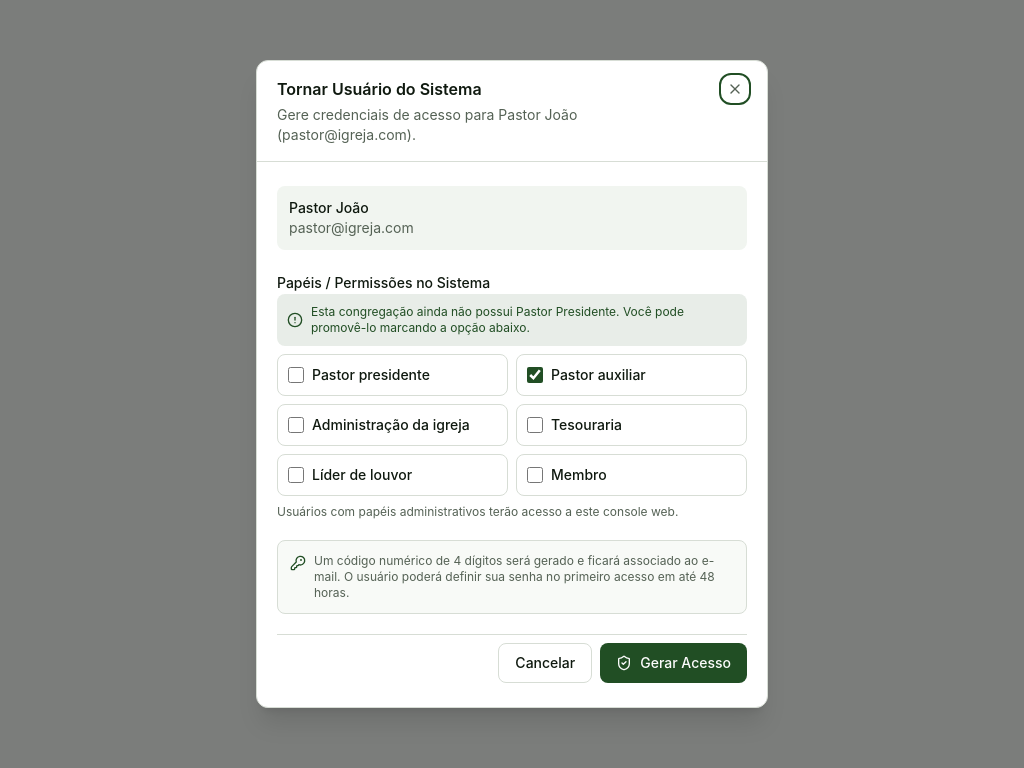
Test: InviteUserDialog › permite selecionar Pastor Presidente quando for pastor e a igreja nao tiver presidente
Expected: the text "Esta congregação ainda não possui Pastor Presidente" is shown, [311,304,684,335]
Note: Desmarca Pastor Auxiliar (selecionado por padrão) e marca Pastor Presidente
Click the checkbox labelled "Pastor auxiliar".
click(535, 375)  # box [527,367,543,383]
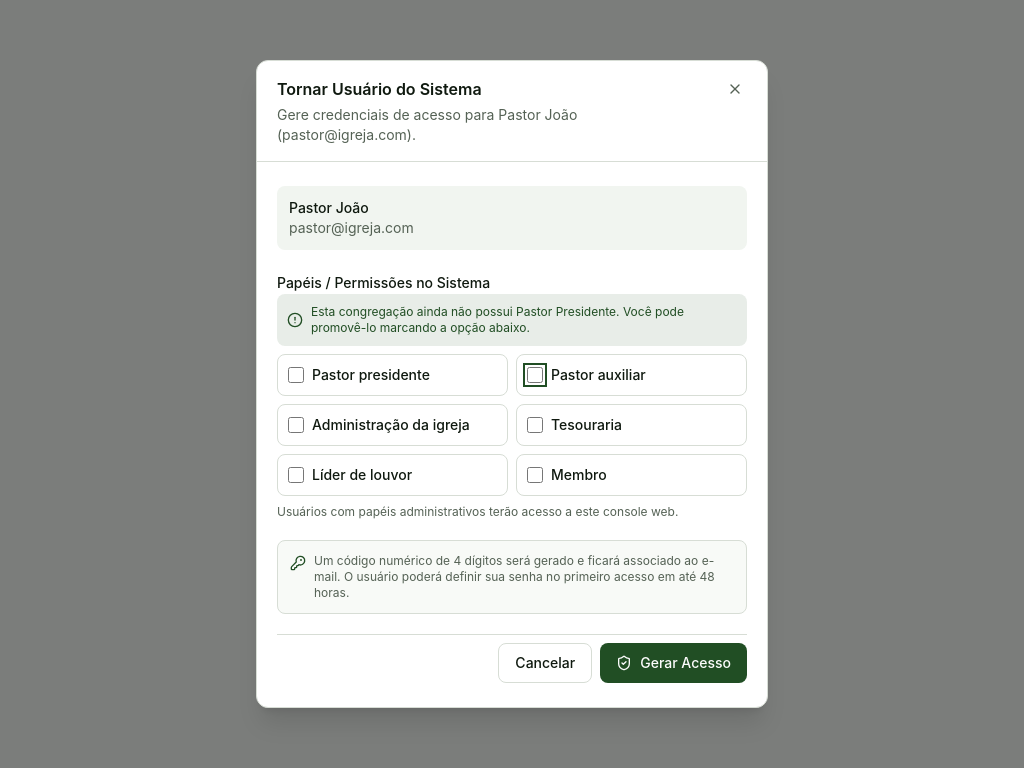
Click the checkbox labelled "Pastor presidente".
click(296, 375)  # box [288,367,304,383]
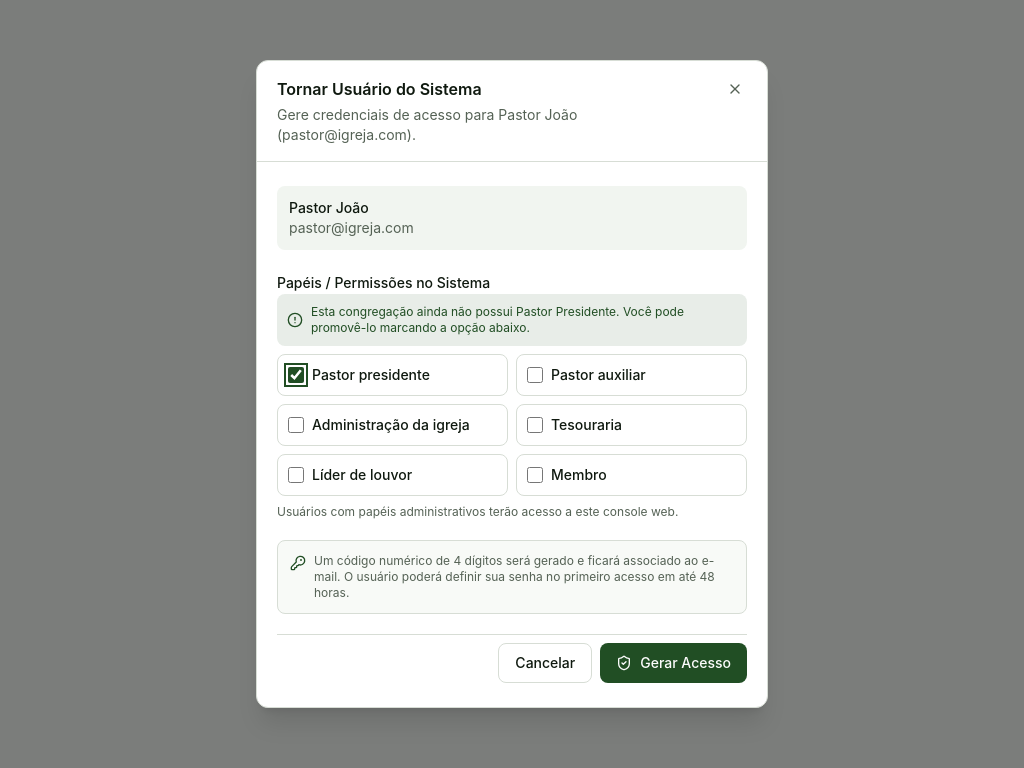
Click the button "Gerar Acesso".
click(674, 663)  # box [600,643,747,683]
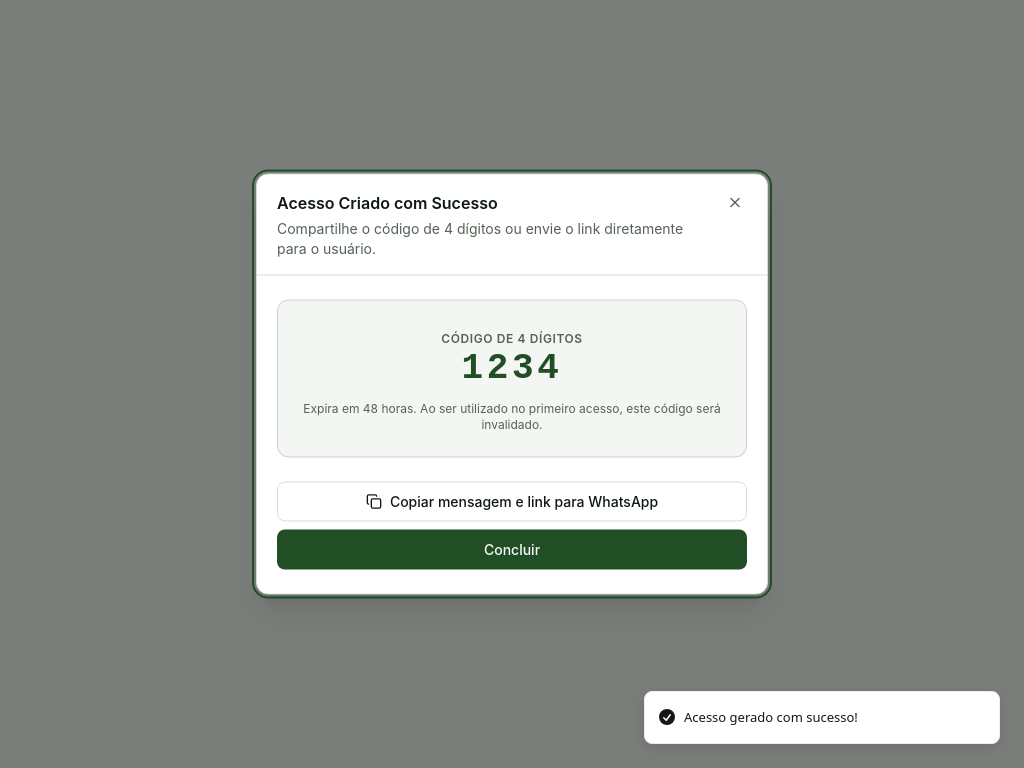
Now the heading "Acesso Criado com Sucesso" is shown, box [277,192,498,212]
